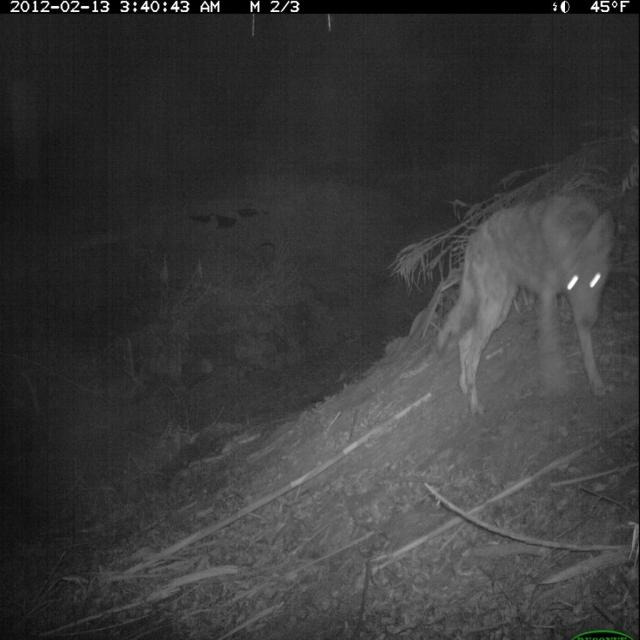coyote: (429, 176, 625, 425)
